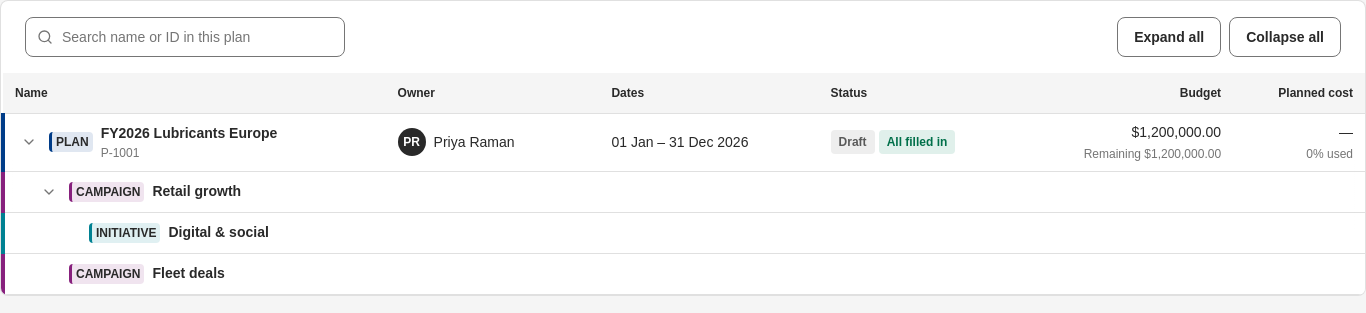
PlanTree (FR-013, FR-014) › starts with the plan and campaign rows open, and expands and collapses everything
This screenshot has width=1366, height=313.
Expected: the number of rows is 5, [3,73,1365,113]; [3,113,1365,171]; [3,171,1365,212]; [3,212,1365,253]; [3,253,1365,294]
Expected: the text "Digital & social" is shown, [168,222,269,243]
Click the button named "Collapse Retail growth" at {"x": 49, "y": 192}, box [37,180,61,204]
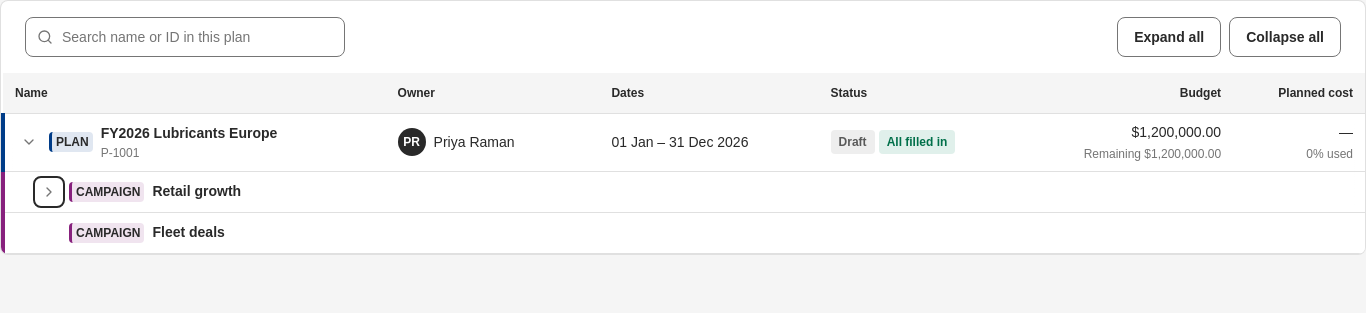
Result: the text "Digital & social" is gone
Click the button "Expand all" at {"x": 1169, "y": 37}, box [1117,17,1221,57]
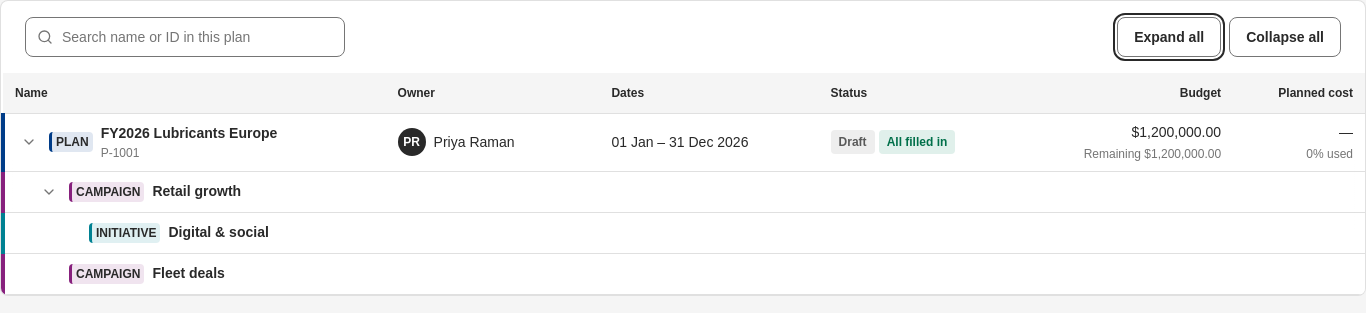
Result: the text "Digital & social" is shown at [168,222,269,243]
Click the button "Collapse all" at {"x": 1285, "y": 37}, box [1229,17,1341,57]
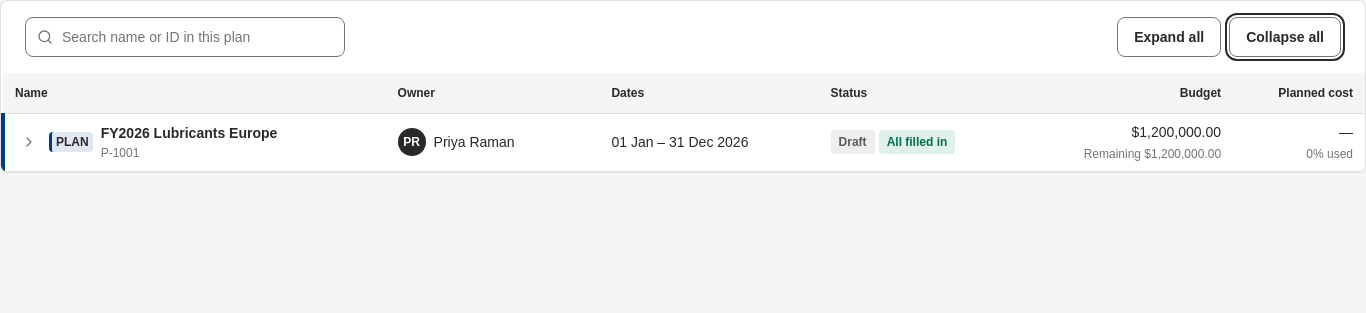
Expected: the number of rows is 2, [3,73,1365,113]; [3,113,1365,171]
Click the button named "Expand FY2026 Lubricants Europe" at {"x": 29, "y": 142}, box [17,130,41,154]
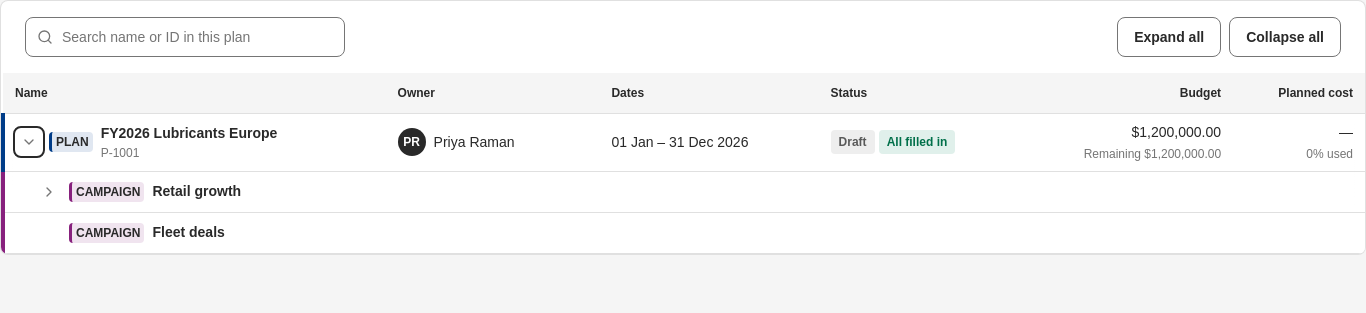
Result: the text "Retail growth" is shown at [152,181,241,202]
